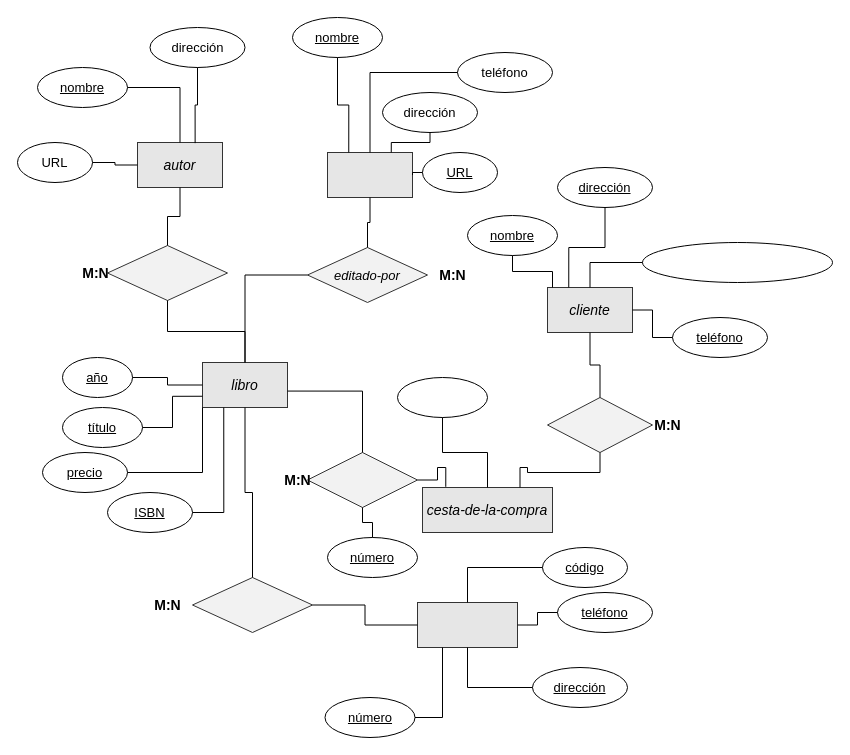
The diagram is 850 pixels wide and 755 high, and some of its shapes have lost their labels. The shapes that lost their labels are listed below. From the top down, each one's centre as x and y in pixels, then its label:
At pixel 369 175: "editor".
At pixel 167 272: "escrito-por".
At pixel 737 262: "dirección-correo-electrónico".
At pixel 442 397: "IDcesta".
At pixel 599 424: "cesta-de".
At pixel 362 480: "contiene".
At pixel 252 604: "almacena".
At pixel 467 625: "almacen".
